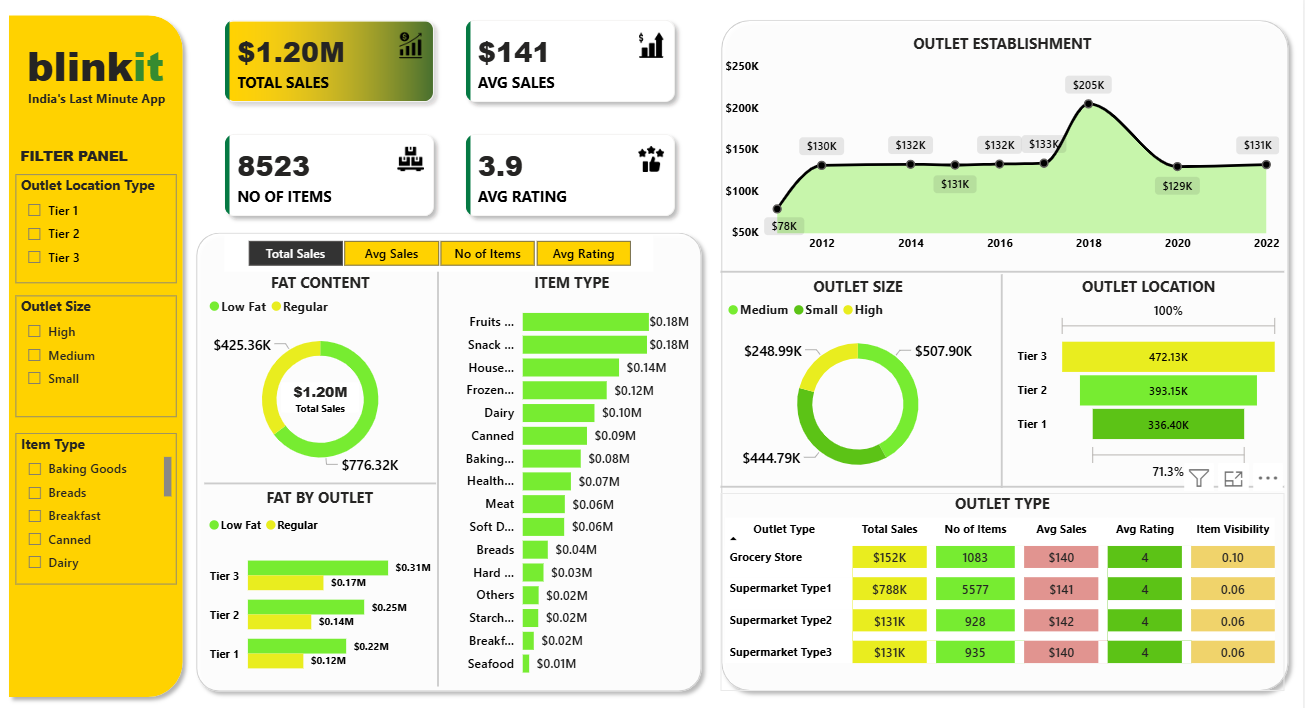

What the dashboard file says about the page in this screenshot:
{"tool":"powerbi","page":{"name":"Page 1","canvas":[1400,800],"ordinal":0},"visuals":[{"type":"shape","box":[2.9,14.5,204.3,749.3],"z":0},{"type":"textbox","box":[20.1,42.9,168.9,85.8],"z":1000},{"type":"textbox","box":[18.8,99.2,174.3,29.5],"z":2000},{"type":"cardVisual","fields":{"Data":["BlinkIT Grocery Data.Total Sales","BlinkIT Grocery Data.Avg Sales","BlinkIT Grocery Data.No of Items","BlinkIT Grocery Data.Avg Rating"]},"box":[214.5,0,540.2,269.4],"z":3000},{"type":"shape","box":[203.8,248.1,559.6,510],"z":4000},{"type":"donutChart","title":"FAT CONTENT","fields":{"Y":["BlinkIT Grocery Data.Total Sales"],"Category":["BlinkIT Grocery Data.Item Fat Content"]},"box":[221,299,249,227],"z":5000},{"type":"slicer","fields":{"Values":["Metrics.Metrics"]},"box":[242.2,258.9,460,40],"z":6000},{"type":"cardVisual","fields":{"Data":["BlinkIT Grocery Data.Total Sales"]},"box":[299,413,93,42],"z":7000},{"type":"shape","box":[221.4,498.6,248.6,54.5],"z":8000},{"type":"shape","box":[455.8,298.9,32.2,445],"z":9000},{"type":"barChart","title":"ITEM TYPE","fields":{"Y":["BlinkIT Grocery Data.Total Sales"],"Category":["BlinkIT Grocery Data.Item Type"]},"box":[483.9,298.9,262.7,445],"z":10000},{"type":"clusteredBarChart","title":"FAT BY OUTLET","fields":{"Y":["BlinkIT Grocery Data.Total Sales"],"Category":["BlinkIT Grocery Data.Outlet Location Type"],"Series":["BlinkIT Grocery Data.Item Fat Content"]},"box":[221.2,529.5,248,218.5],"z":11000},{"type":"shape","box":[766.8,20.1,626,737.3],"z":12000},{"type":"lineChart","title":"OUTLET ESTABLISHMENT","fields":{"Y":["BlinkIT Grocery Data.Total Sales"],"Category":["BlinkIT Grocery Data.Outlet Establishment Year"]},"box":[774.8,42.9,604.6,244],"z":13000},{"type":"shape","box":[774.8,286.9,604.6,24.1],"z":14000},{"type":"donutChart","title":"OUTLET SIZE","fields":{"Y":["BlinkIT Grocery Data.Total Sales"],"Category":["BlinkIT Grocery Data.Outlet Size"]},"box":[777.5,303,289.5,229.2],"z":15000},{"type":"shape","box":[774.8,517.4,604.6,24.1],"z":16000},{"type":"shape","box":[1064.3,301.6,24.1,229.2],"z":17000},{"type":"funnel","title":"OUTLET LOCATION","fields":{"Y":["Sum(BlinkIT Grocery Data.Sales)"],"Category":["BlinkIT Grocery Data.Outlet Location Type"]},"box":[1088.5,303,290.9,225.2],"z":18000},{"type":"pivotTable","title":"OUTLET TYPE","fields":{"Rows":["BlinkIT Grocery Data.Outlet Type"],"Values":["BlinkIT Grocery Data.Total Sales","BlinkIT Grocery Data.No of Items","BlinkIT Grocery Data.Avg Sales","BlinkIT Grocery Data.Avg Rating","Avg(BlinkIT Grocery Data.Item Visibility)"]},"box":[774.8,536.2,604.6,211.8],"z":19000},{"type":"slicer","title":"Outlet Location Type","fields":{"Values":["BlinkIT Grocery Data.Outlet Location Type"]},"box":[18.8,194.4,172.9,116.6],"z":20000},{"type":"slicer","title":"Outlet Size","fields":{"Values":["BlinkIT Grocery Data.Outlet Size"]},"box":[18.8,324.4,172.9,130],"z":21000},{"type":"slicer","title":"Item Type","fields":{"Values":["BlinkIT Grocery Data.Item Type"]},"box":[18.8,471.9,172.9,162.2],"z":22000},{"type":"textbox","box":[18.8,159.5,152.8,34.9],"z":23000}]}

Visuals, with their boxes on the page's 1400x800 design canvas (x1, y1, x2, y2). These are canvas units, not pixel positions in the 1305x708 screenshot, which may show the page scaled, cropped or inside an application window:
shape: x1=3 y1=14 x2=207 y2=764
textbox: x1=20 y1=43 x2=189 y2=129
textbox: x1=19 y1=99 x2=193 y2=129
cardVisual - BlinkIT Grocery Data.Total Sales x BlinkIT Grocery Data.Avg Sales: x1=214 y1=0 x2=755 y2=269
shape: x1=204 y1=248 x2=763 y2=758
"FAT CONTENT" donutChart: x1=221 y1=299 x2=470 y2=526
slicer - Metrics.Metrics: x1=242 y1=259 x2=702 y2=299
cardVisual - BlinkIT Grocery Data.Total Sales: x1=299 y1=413 x2=392 y2=455
shape: x1=221 y1=499 x2=470 y2=553
shape: x1=456 y1=299 x2=488 y2=744
"ITEM TYPE" barChart: x1=484 y1=299 x2=747 y2=744
"FAT BY OUTLET" clusteredBarChart: x1=221 y1=530 x2=469 y2=748
shape: x1=767 y1=20 x2=1393 y2=757
"OUTLET ESTABLISHMENT" lineChart: x1=775 y1=43 x2=1379 y2=287
shape: x1=775 y1=287 x2=1379 y2=311
"OUTLET SIZE" donutChart: x1=778 y1=303 x2=1067 y2=532
shape: x1=775 y1=517 x2=1379 y2=542
shape: x1=1064 y1=302 x2=1088 y2=531
"OUTLET LOCATION" funnel: x1=1088 y1=303 x2=1379 y2=528
"OUTLET TYPE" pivotTable: x1=775 y1=536 x2=1379 y2=748
"Outlet Location Type" slicer: x1=19 y1=194 x2=192 y2=311
"Outlet Size" slicer: x1=19 y1=324 x2=192 y2=454
"Item Type" slicer: x1=19 y1=472 x2=192 y2=634
textbox: x1=19 y1=160 x2=172 y2=194
